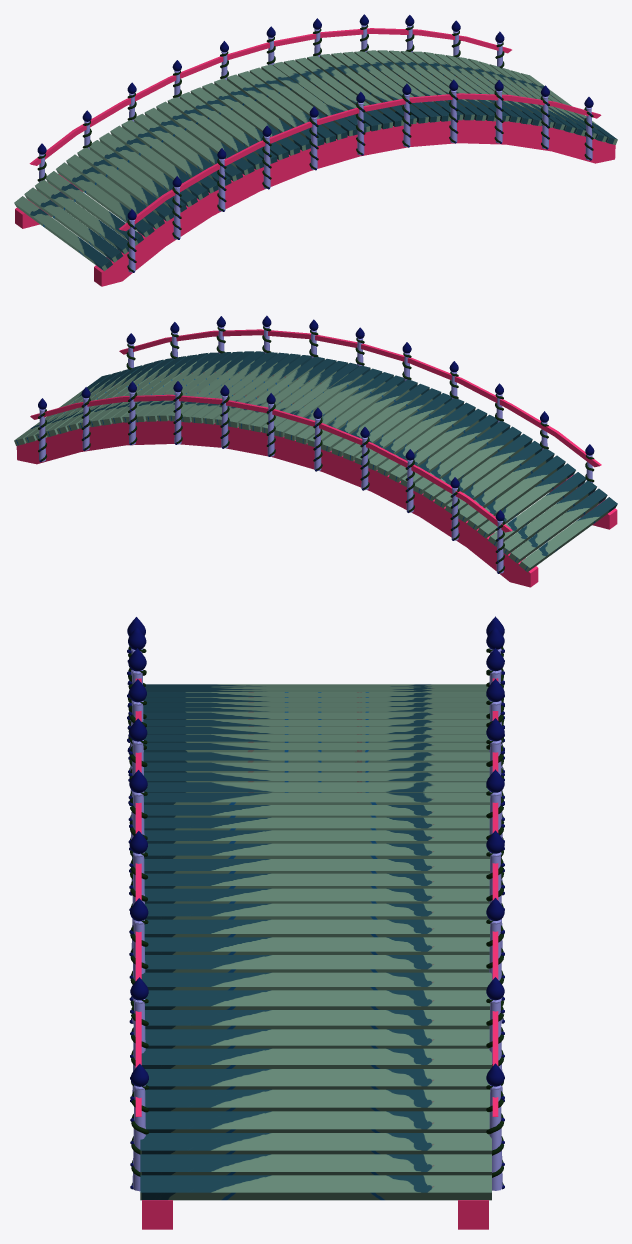
File: bridge final.FBX
3 views of the same model, one above another, from view 1: azimuth 30°, elevation 25°; view 2: azimuth 150°, elevation 25°; view 3: azimuth 270°, elevation 25° (orthographic). The views are drawn at different scales.
Parts seen in each view (by area): view 1: blank smaller001, bridge part1_2, railing007, bridge railing, bridge railing001; view 2: blank smaller001, bridge part1_004, railing007, bridge railing001, bridge railing; view 3: blank smaller001, railing007, bridge railing001, bridge railing, bridge part1_2, bridge part1_004.
Part boxes in pixels (x1,y1,x2,y2): blank smaller001: (14, 50, 617, 271); bridge part1_2: (94, 119, 615, 286); railing007: (37, 14, 593, 272); bridge railing: (29, 28, 511, 165); bridge railing001: (119, 93, 601, 231); blank smaller001: (14, 351, 617, 572); bridge part1_004: (16, 420, 538, 587); railing007: (38, 315, 594, 573); bridge railing001: (119, 329, 601, 467); bridge railing: (30, 394, 512, 532); blank smaller001: (140, 684, 491, 1200); railing007: (127, 616, 504, 1191); bridge railing001: (135, 678, 141, 1116); bridge railing: (492, 678, 498, 1116); bridge part1_2: (142, 1200, 172, 1229); bridge part1_004: (458, 1200, 488, 1229).
Bounding box in the file's own units: 25.34 × 6.25 × 8.03.
